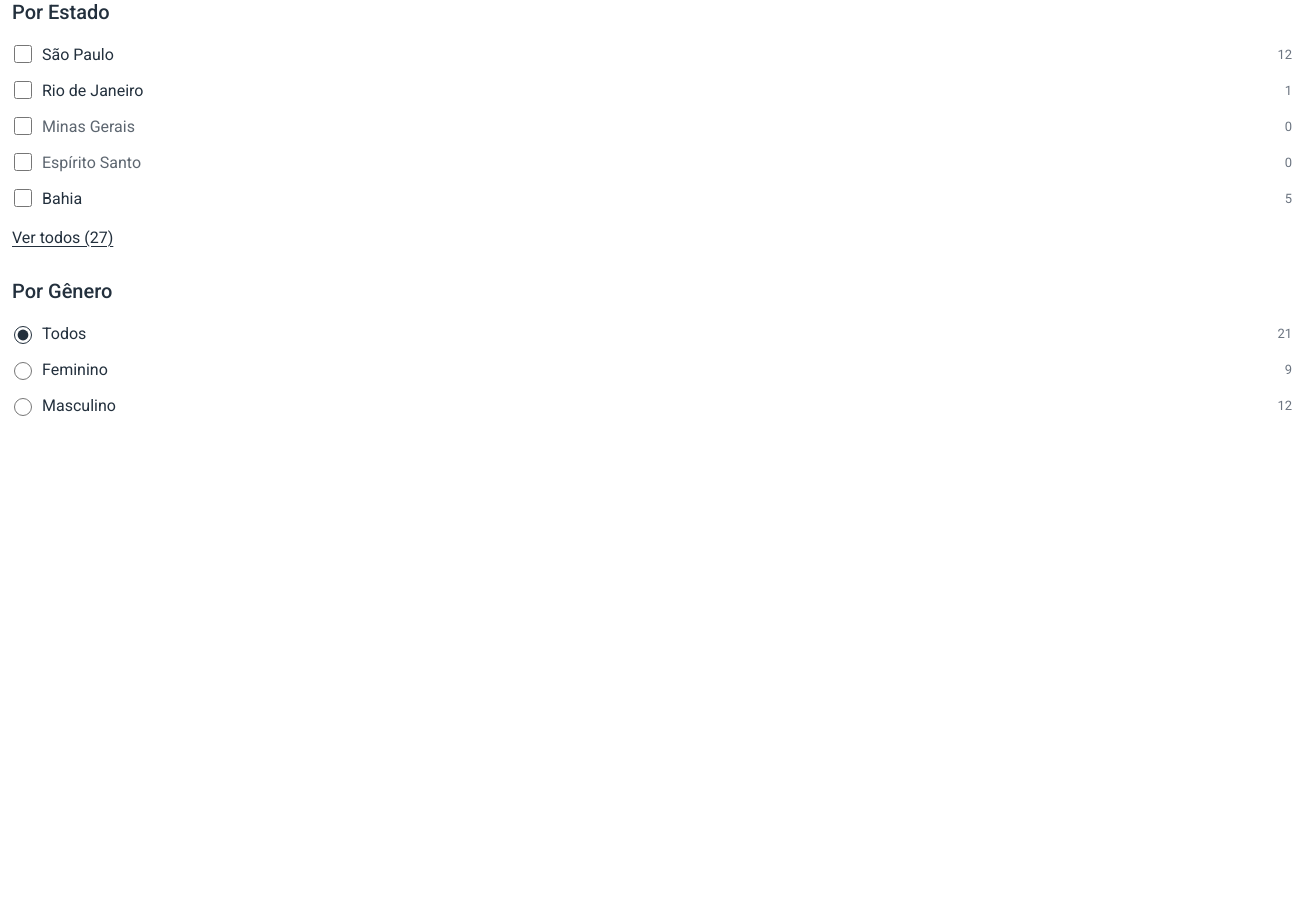
Test: FilterPanel list of all states › lists the other 22 after the five, in alphabetical order, once opened
Click the button with test id "filter-panel__toggle--button". click: click(63, 238)
box: [12,224,113,251]
(page scrolled)
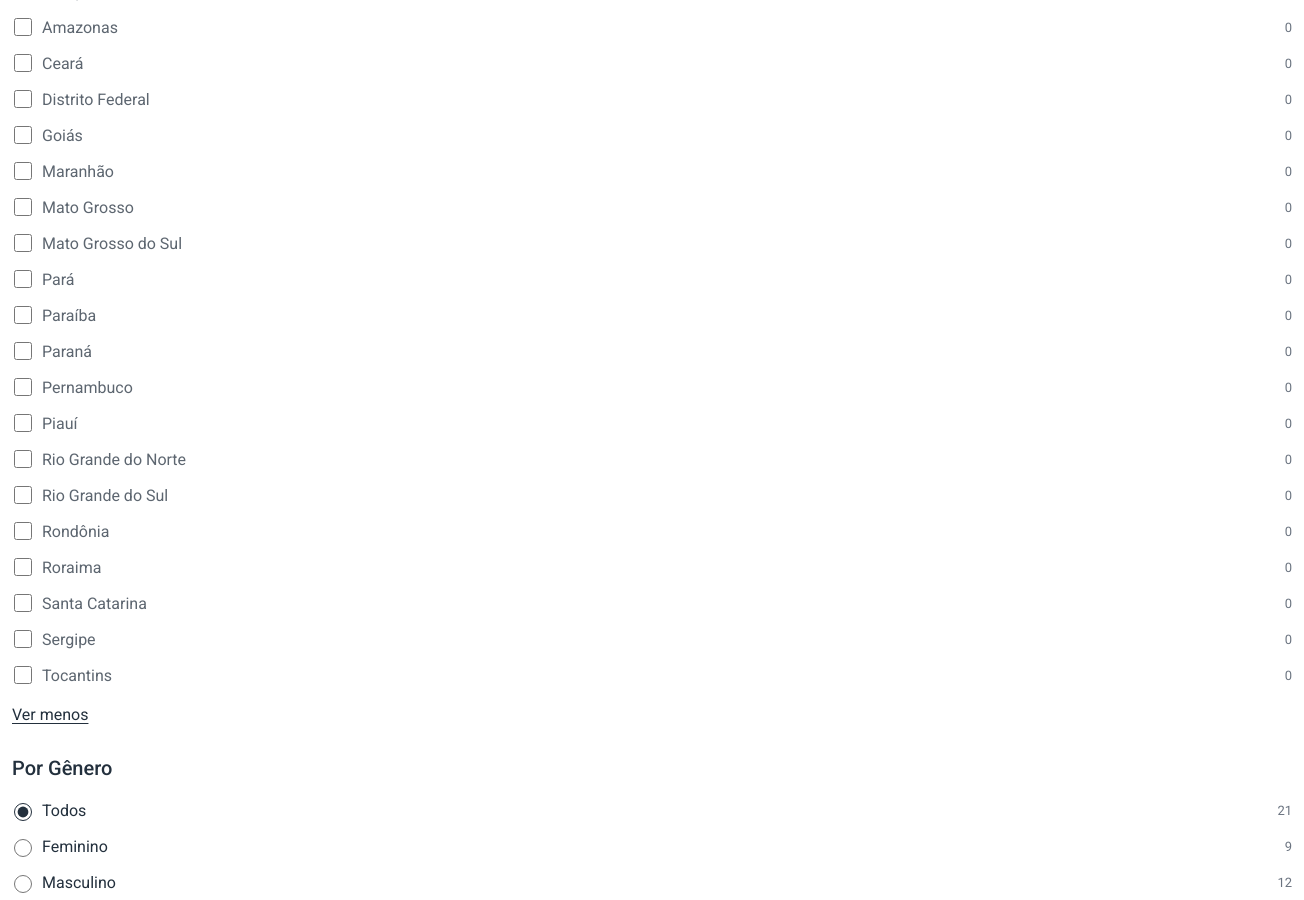
Expected: the text with test id "filter-panel__name--text" reads "Tocantins", [42,666,112,684]
Expected: the button with test id "filter-panel__toggle--button" reads "Ver menos", [12,701,88,728]
Expected: the button with test id "filter-panel__toggle--button" is expanded, [12,701,88,728]
